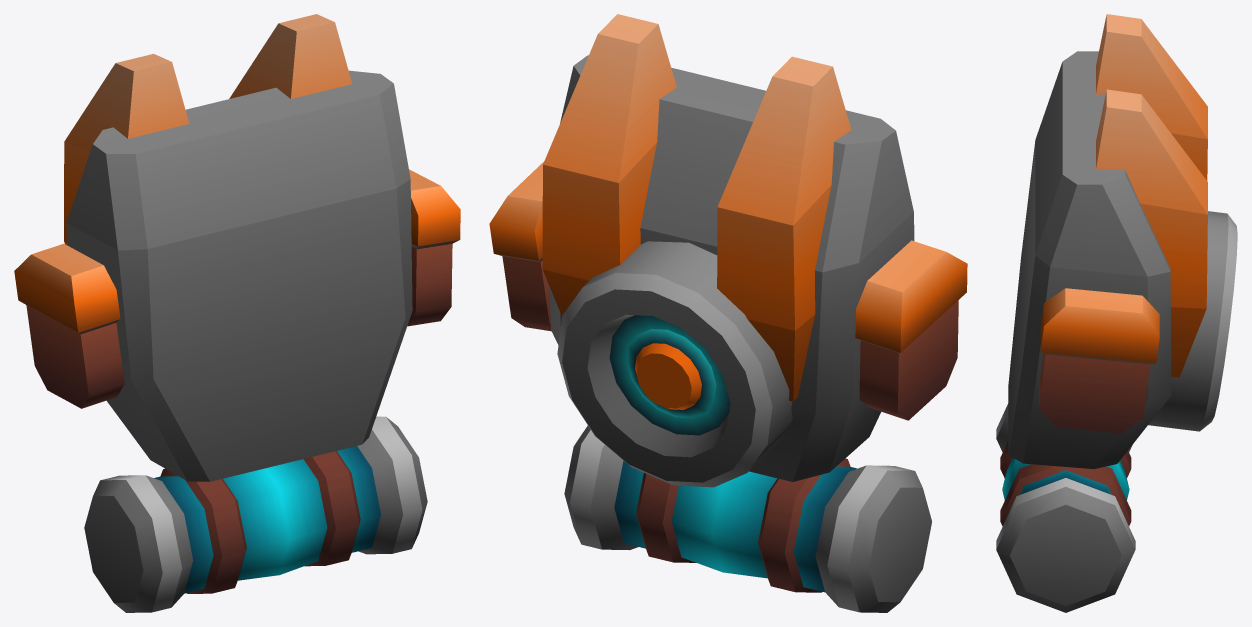
File: backpack.fbx
The picture shows the model from 3 angles, left to right: view 1: azimuth 30°, elevation 25°; view 2: azimuth 150°, elevation 25°; view 3: azimuth 270°, elevation 25°; orthographic projection. The views are drawn at different scales.
Parts seen in each view (by area): view 1: backpack; view 2: backpack; view 3: backpack.
Boxes of the visible parts, x1,y1,x2,y2 form: backpack: (14, 14, 460, 612); backpack: (489, 14, 967, 612); backpack: (996, 14, 1237, 612).
Size of the model in its own units: 29.74 by 38.16 by 16.97.
